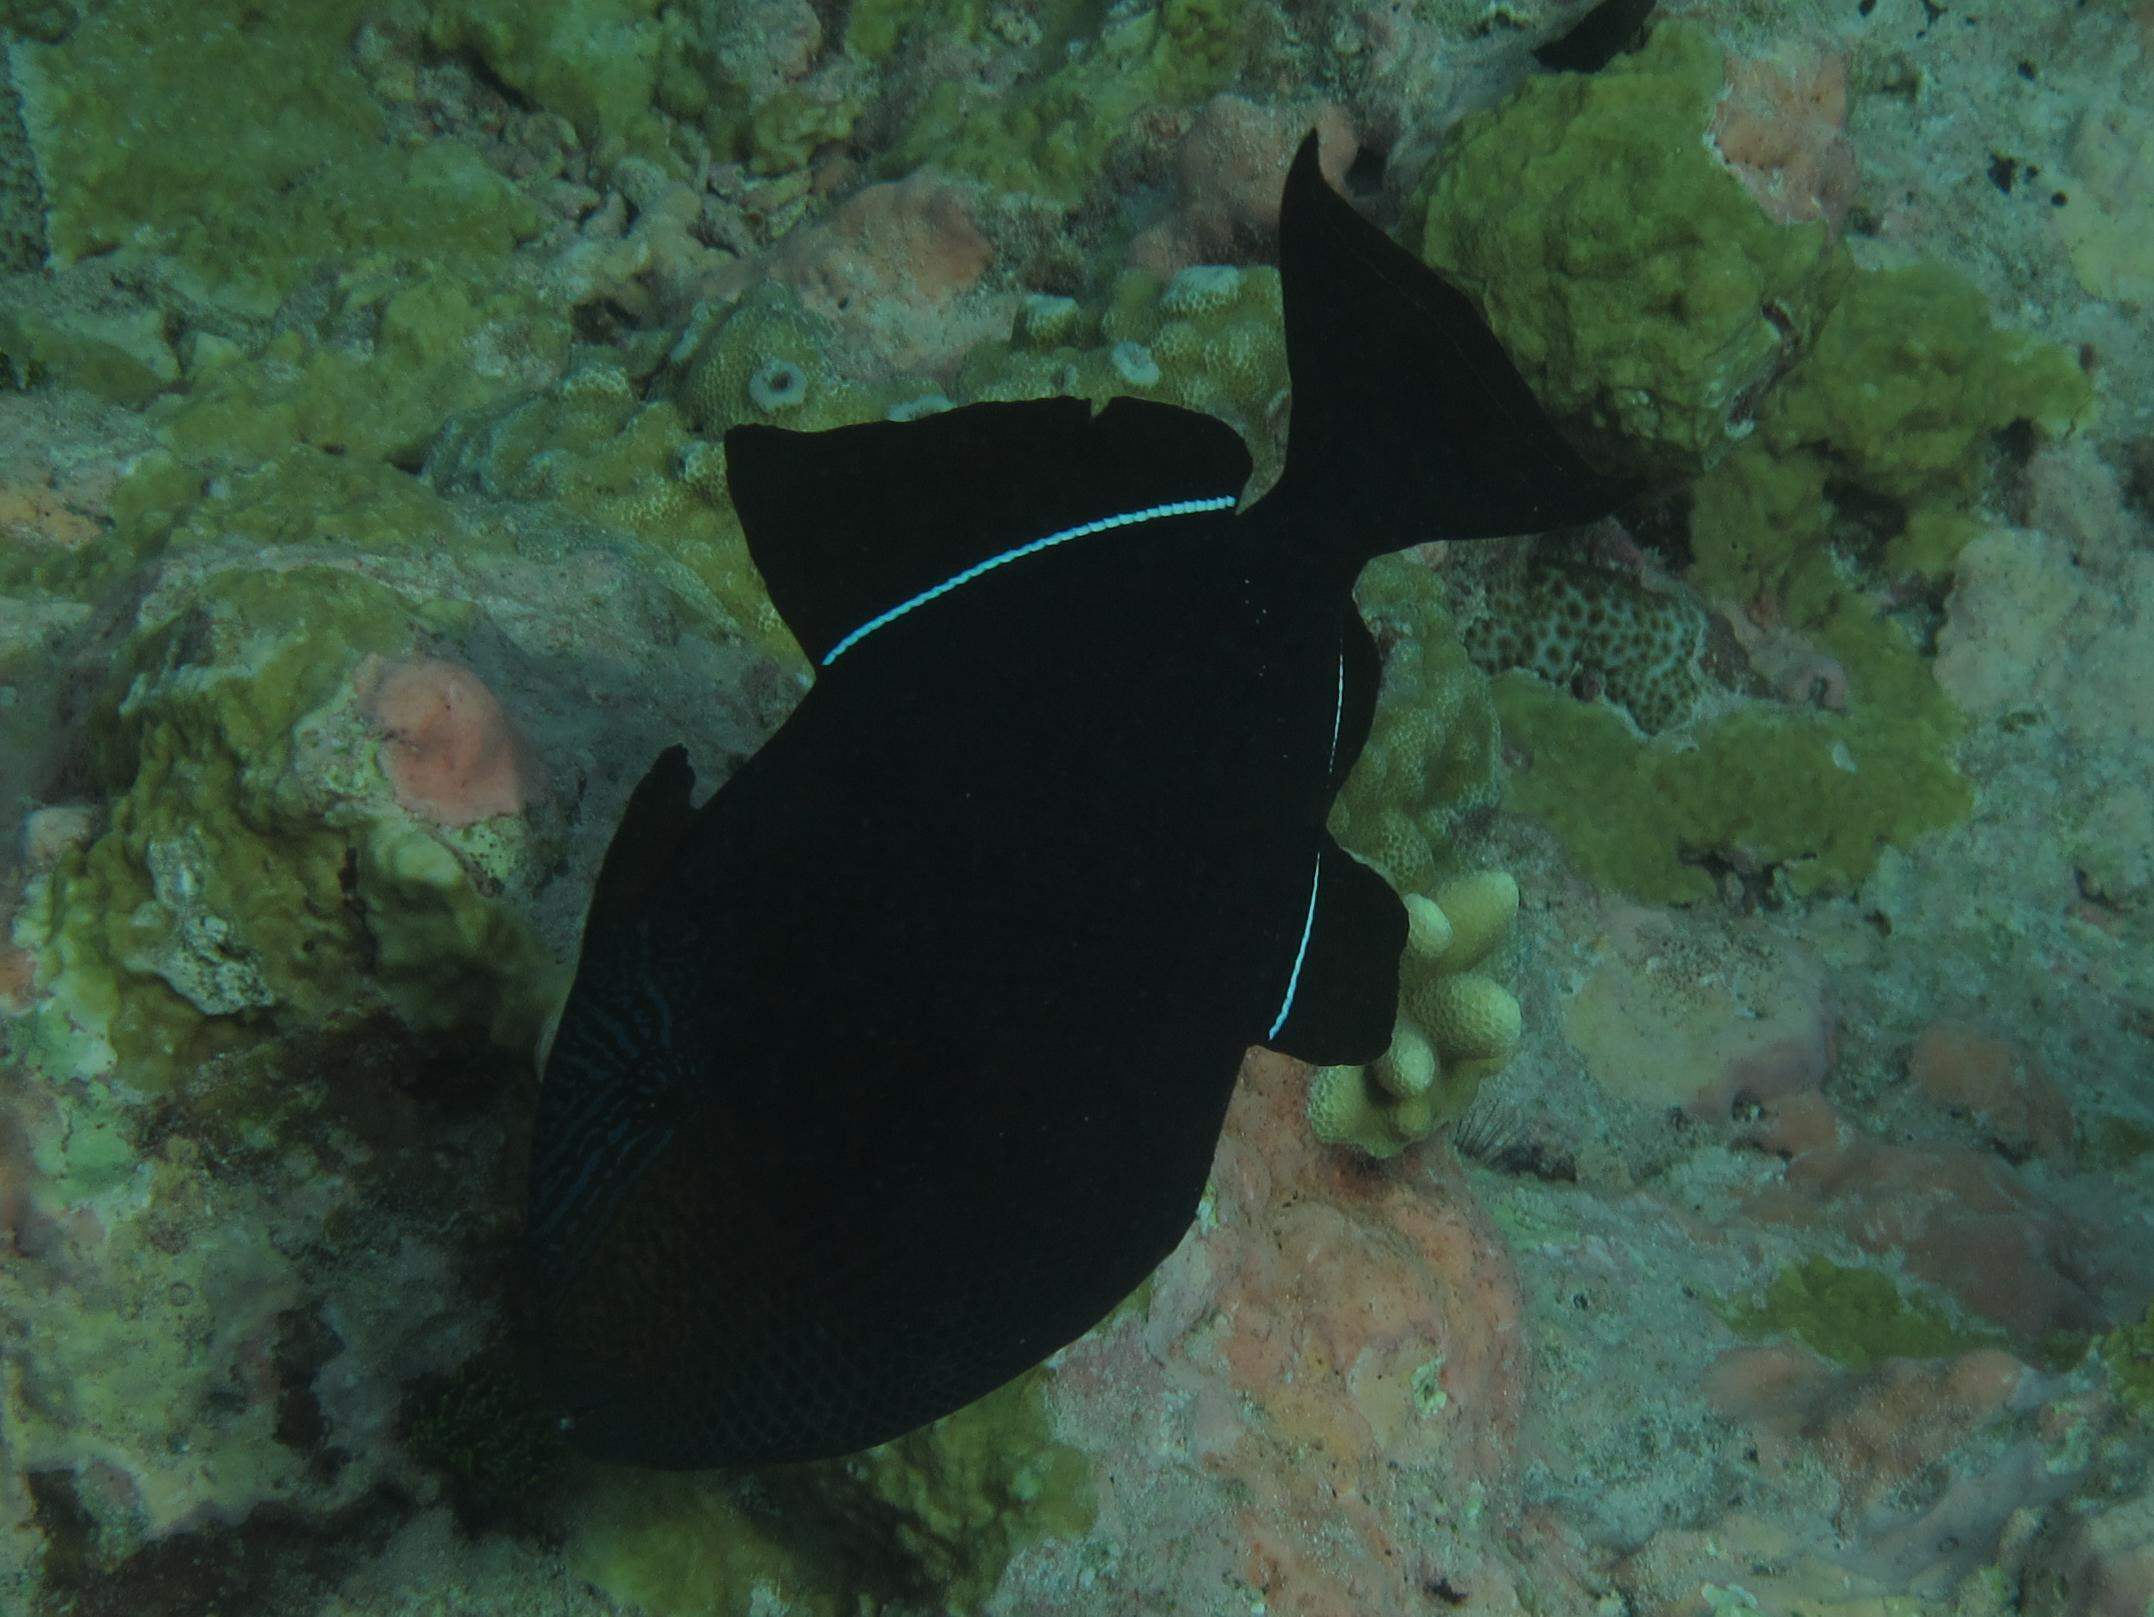Fish: (498, 122, 1617, 1556)
